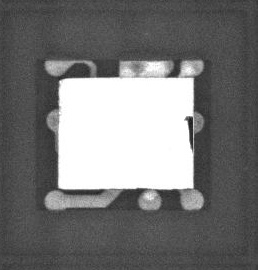DIE_BROKEN: (184, 113, 195, 154)
